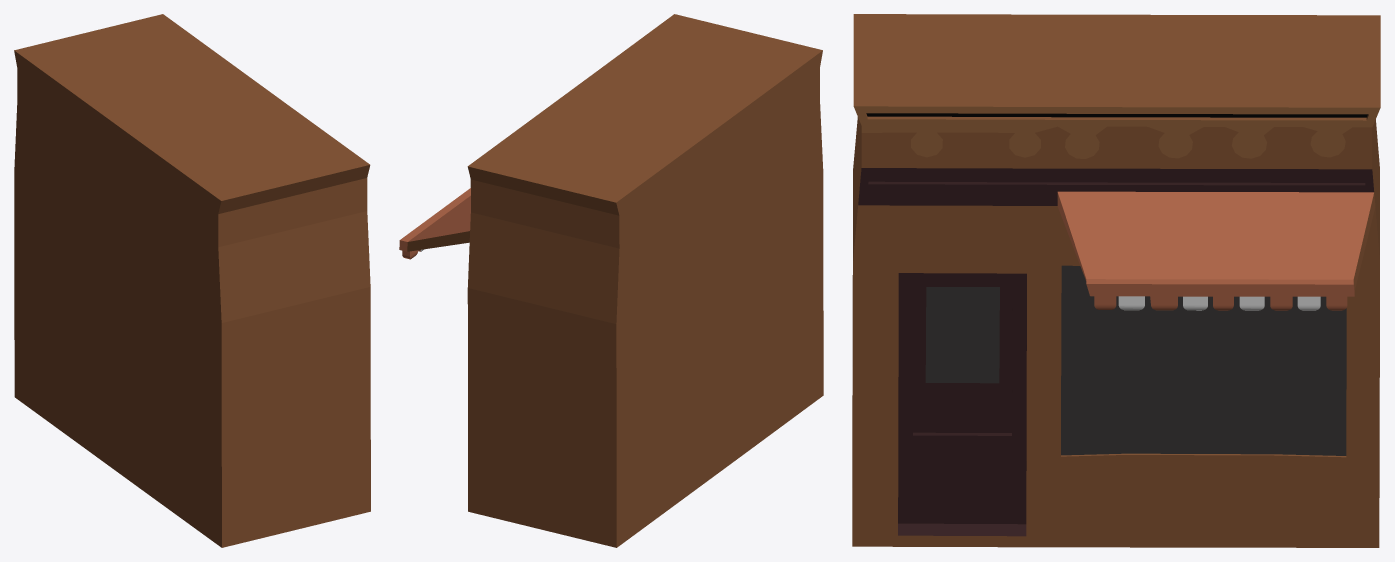
Rendered from ExportedBlenderFBXFile.fbx.
3 renders of one model, left to right at view 1: azimuth 30°, elevation 25°; view 2: azimuth 150°, elevation 25°; view 3: azimuth 270°, elevation 25°, orthographic. The views are drawn at different scales.
Visible parts, largest first — view 1: Cube; view 2: Cube; view 3: Cube.
Boxes of the visible parts, <box> form: Cube: <box>14,14,370,547</box>; Cube: <box>399,14,823,547</box>; Cube: <box>852,14,1380,547</box>.
Size of the model in its own units: 2.12 by 3.09 by 3.35.
